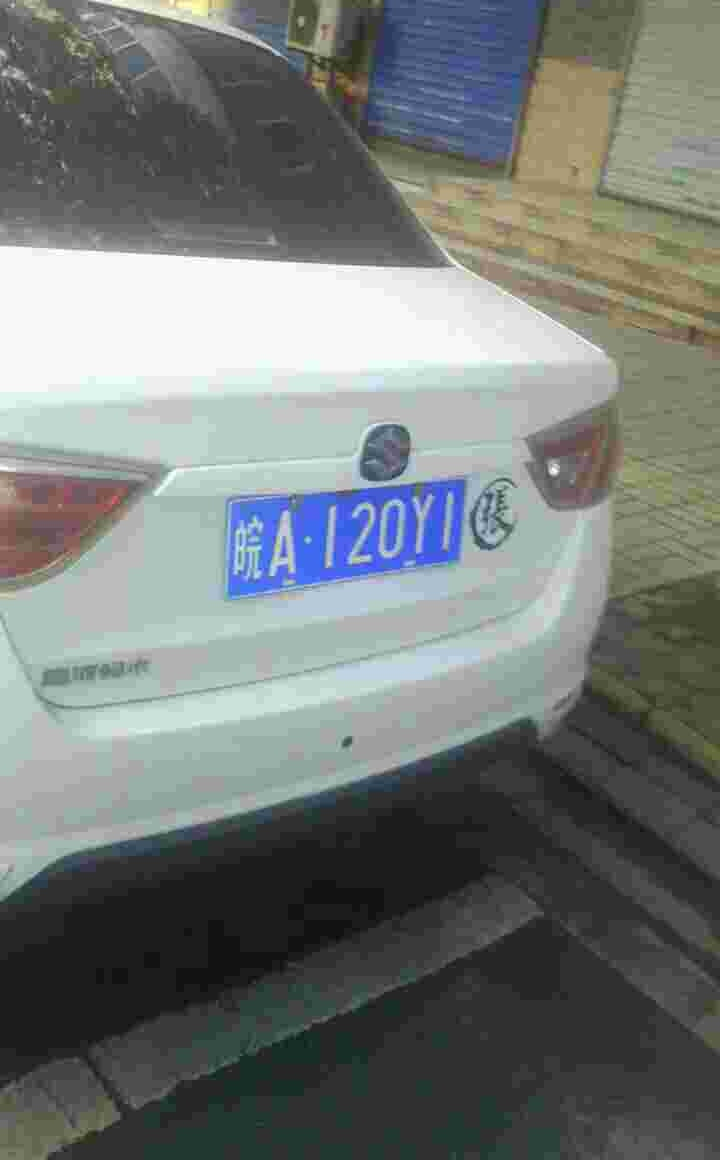license_plate: (217, 474, 483, 602)
